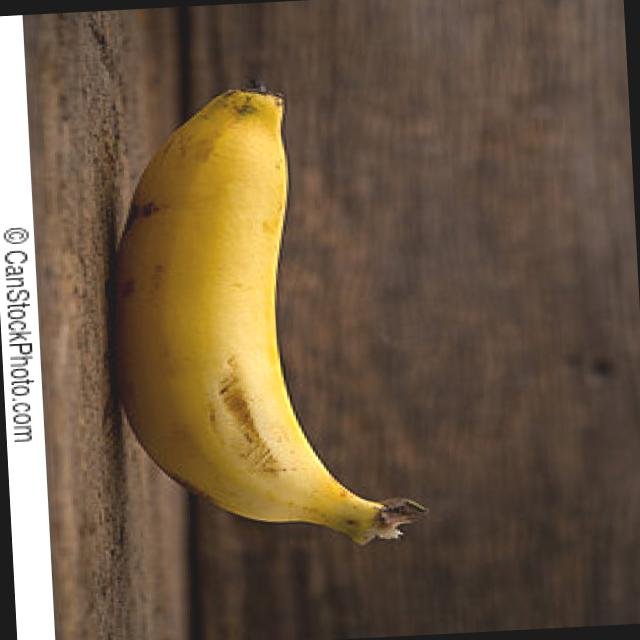Platano: (96, 73, 433, 565)
